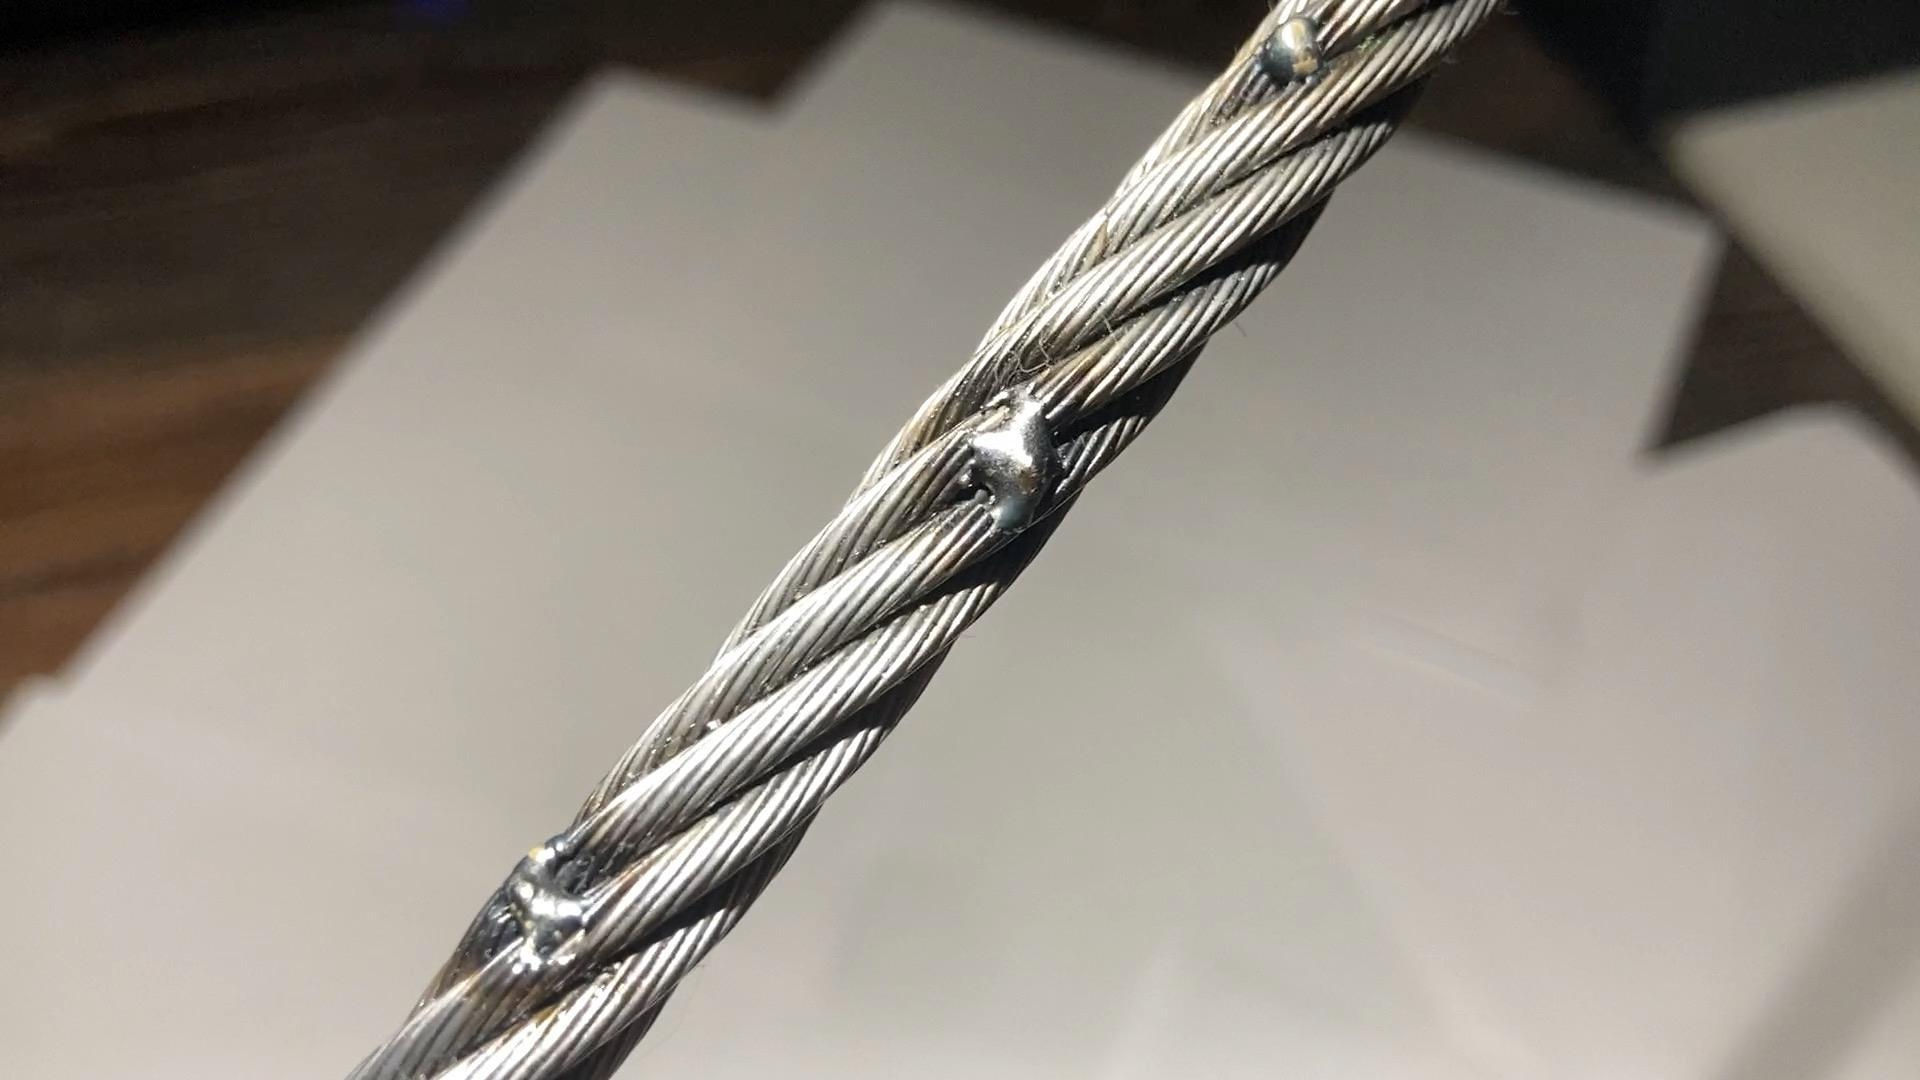thunderbolt: (951, 413, 1064, 493), (501, 884, 591, 960), (1247, 7, 1341, 74)
